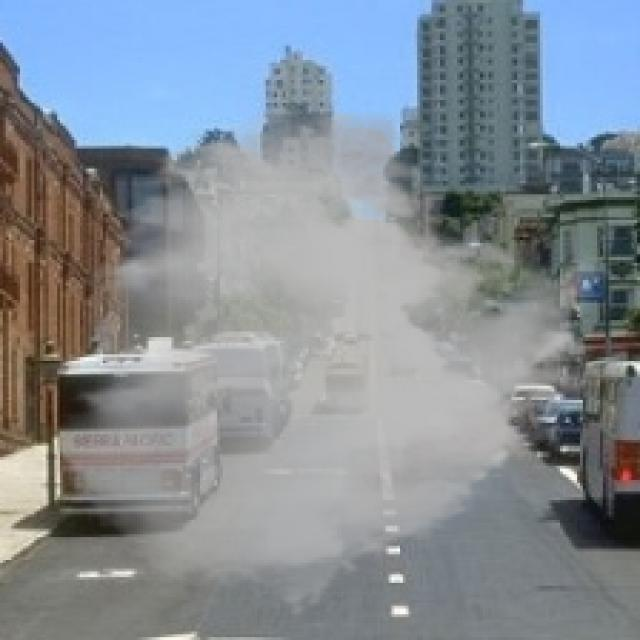Smoke: (55, 102, 614, 618)
